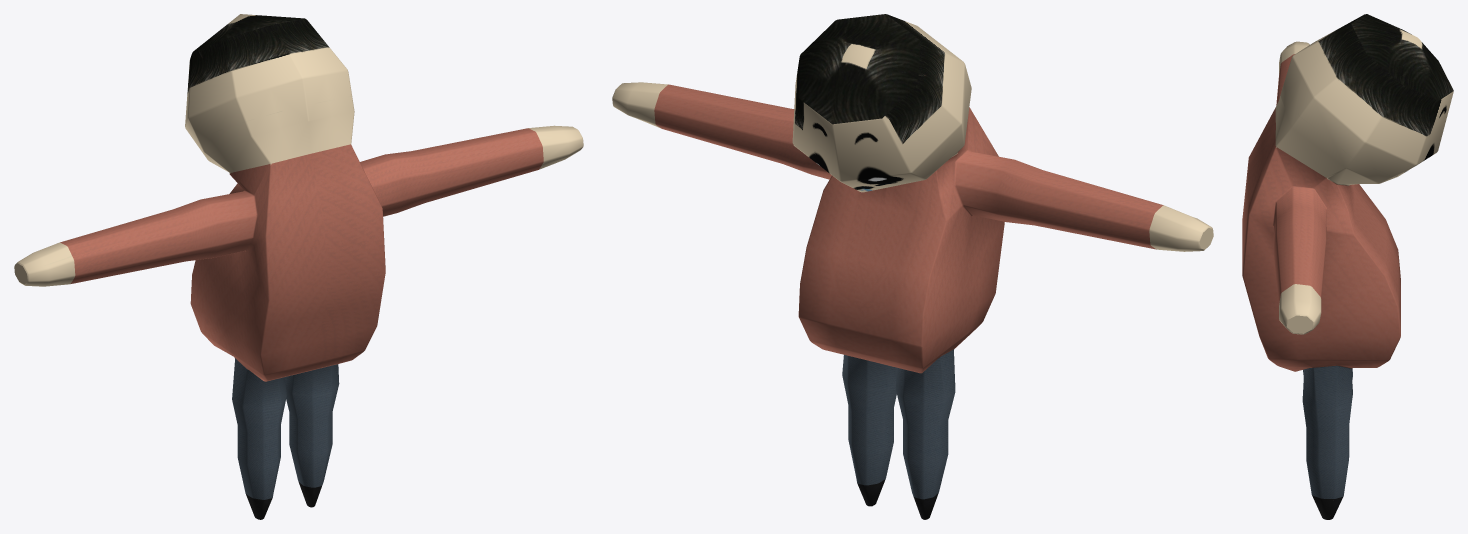
Rendered from Enemy.fbx.
3 renders of one model, left to right at view 1: azimuth 30°, elevation 25°; view 2: azimuth 150°, elevation 25°; view 3: azimuth 270°, elevation 25°, orthographic. The views are drawn at different scales.
Visible parts, largest first — view 1: Sphere002; view 2: Sphere002; view 3: Sphere002.
Part boxes in pixels (left/top/right/bottom): Sphere002: left=14, top=14, right=583, bottom=519; Sphere002: left=612, top=14, right=1213, bottom=519; Sphere002: left=1242, top=14, right=1453, bottom=519.
Bounding box in the file's own units: 79.24 × 65.3 × 25.89.
1 material, 1 textured.
